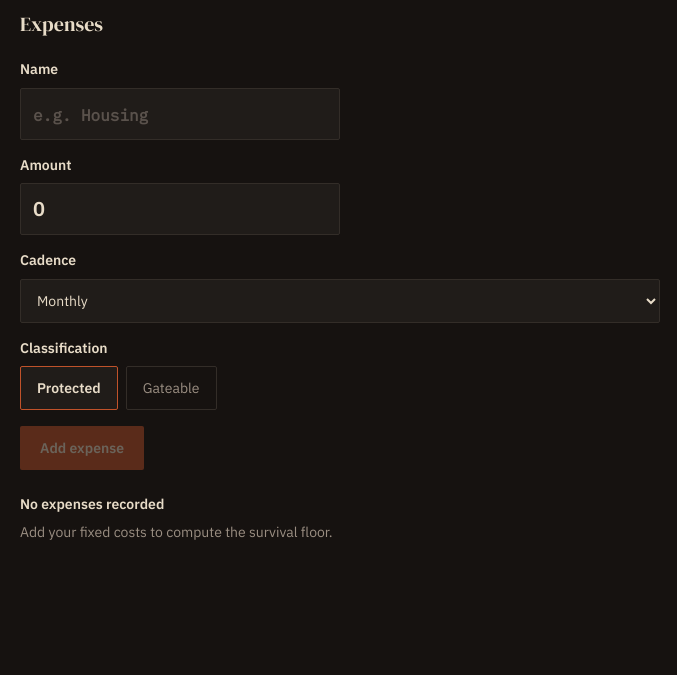
Test: ExpensesPage › adds a PROTECTED expense and it appears in the Protected column
Note: Fill name
Step 1. Type "Housing" into the field labelled "Name" → (180, 114), box 20,88 -> 340,140
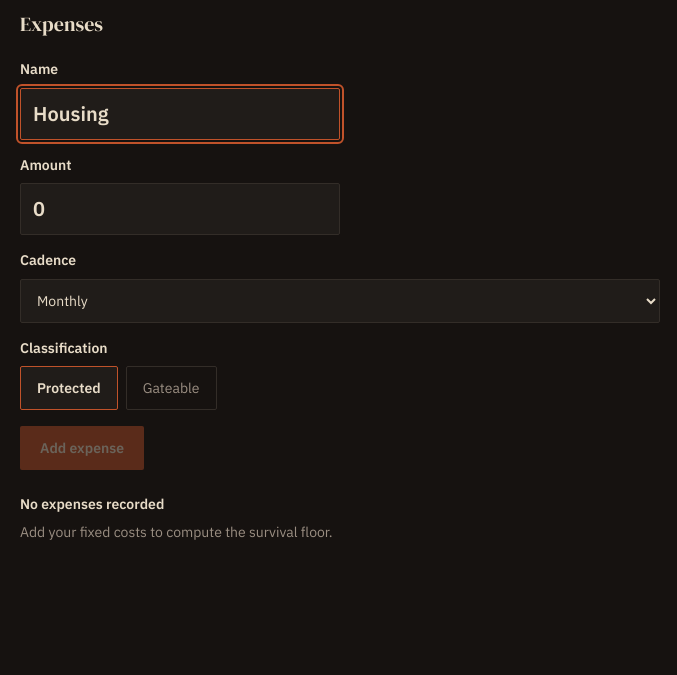
Note: Fill amount
Step 2. Replace the text in the number field labelled "Amount" with "1300" → (180, 209), box 20,183 -> 340,235
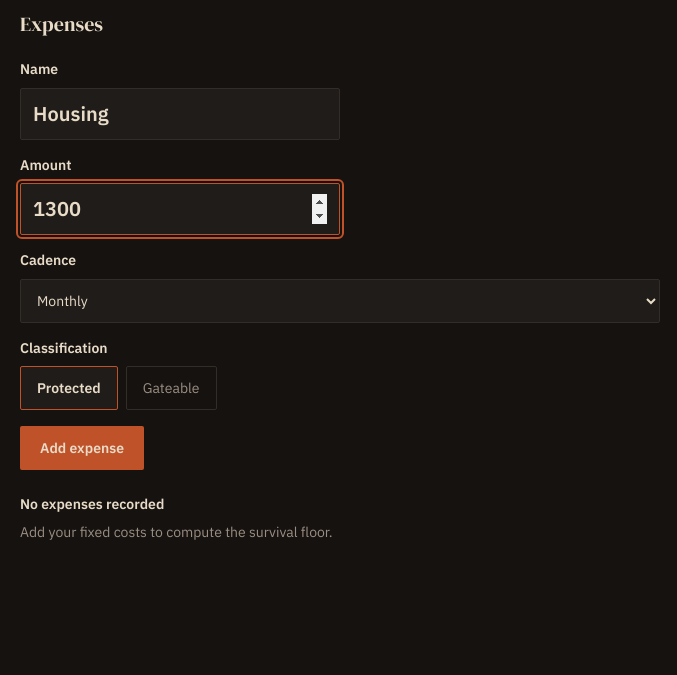
Expected: the button "Add expense" is enabled
Step 3. Click the button "Add expense" → click(82, 448), box 20,426 -> 144,470
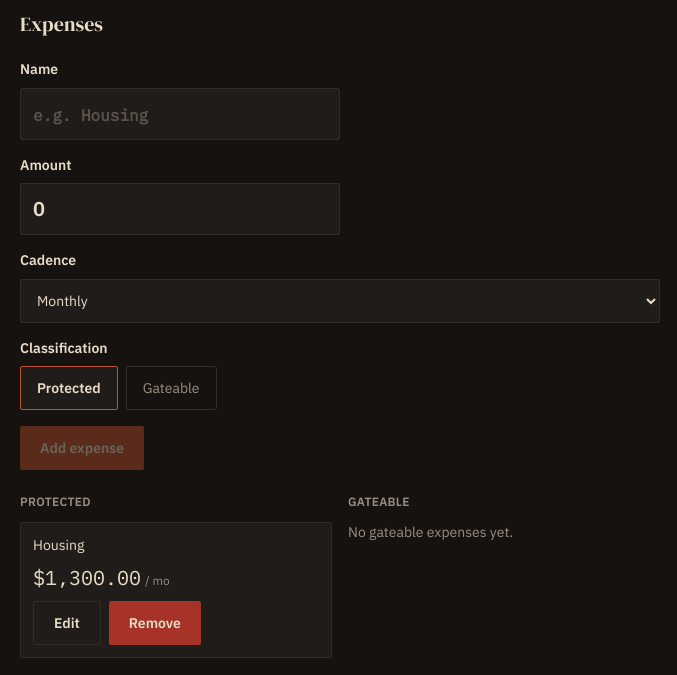
Expected: the text "Housing" is shown, 33,536 -> 84,554
